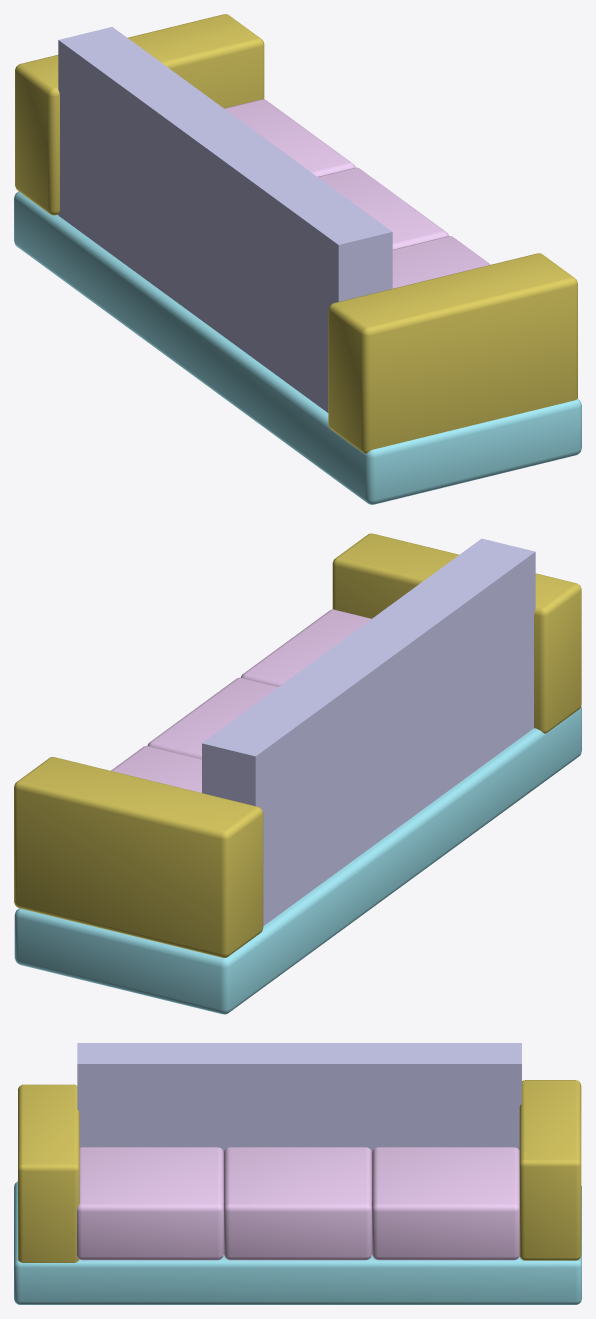
The model's file is modelsofa.glb.
3 views of the same model, one above another, from view 1: azimuth 30°, elevation 25°; view 2: azimuth 150°, elevation 25°; view 3: azimuth 270°, elevation 25° (orthographic). The views are drawn at different scales.
Parts seen in each view (by area): view 1: ChamferBox008, ChamferBox007, ChamferBox001, ChamferBox006, ChamferBox003, ChamferBox004, ChamferBox005; view 2: ChamferBox008, ChamferBox006, ChamferBox001, ChamferBox007, ChamferBox003, ChamferBox005, ChamferBox004; view 3: ChamferBox008, ChamferBox001, ChamferBox003, ChamferBox004, ChamferBox005, ChamferBox006, ChamferBox007.
Part boxes in pixels (x1,y1,x2,y2): ChamferBox008: (58, 27, 392, 412); ChamferBox007: (328, 253, 577, 453); ChamferBox001: (14, 191, 581, 504); ChamferBox006: (15, 14, 264, 215); ChamferBox003: (318, 167, 448, 249); ChamferBox004: (224, 99, 355, 176); ChamferBox005: (392, 236, 490, 288); ChamferBox008: (202, 538, 535, 925); ChamferBox006: (14, 757, 263, 957); ChamferBox001: (14, 706, 581, 1014); ChamferBox007: (332, 533, 581, 733); ChamferBox003: (147, 677, 278, 758); ChamferBox005: (241, 609, 371, 686); ChamferBox004: (111, 746, 201, 792); ChamferBox008: (77, 1043, 521, 1152); ChamferBox001: (14, 1181, 581, 1304); ChamferBox003: (224, 1147, 371, 1260); ChamferBox004: (372, 1147, 519, 1260); ChamferBox005: (77, 1147, 223, 1260); ChamferBox006: (519, 1080, 581, 1260); ChamferBox007: (18, 1084, 79, 1262).
Size of the model in its own units: 2.06 by 2.09 by 5.84.
